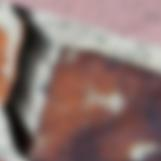brick: (26, 44, 160, 160), (3, 0, 160, 44), (0, 66, 12, 101), (0, 29, 7, 66)
crack: (0, 2, 50, 160)
